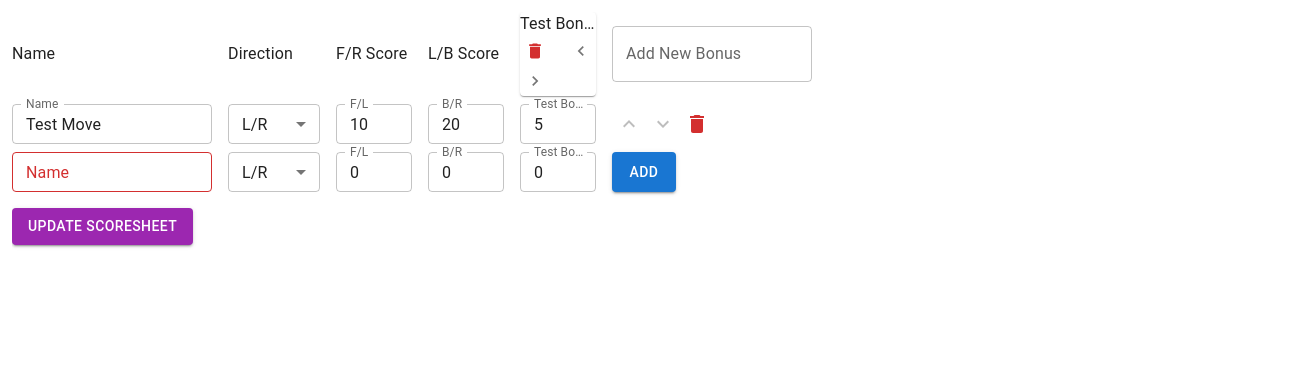
Scenario: ScoresheetMoves › adds a new move to the scoresheet, keeping existing moves in place
Type "New Move" into the 2nd field labelled "Name" at (112, 172), box top-left (12, 152), bottom-right (212, 192)
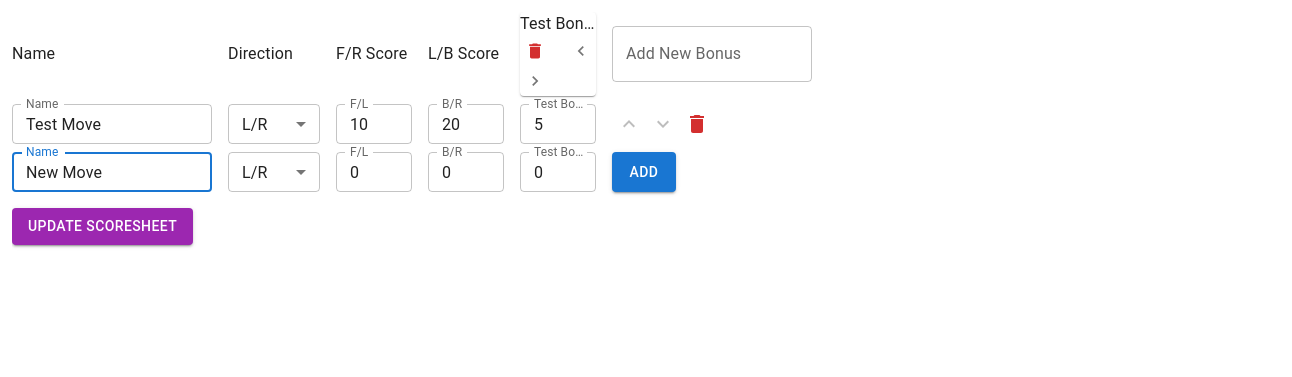
Click the button "Add" at (644, 172), box top-left (612, 152), bottom-right (676, 192)
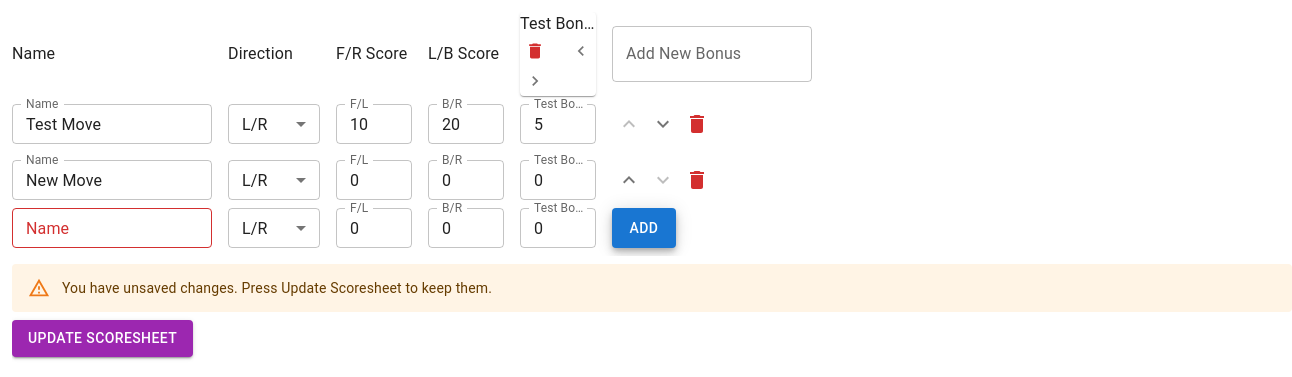
Expected: the 1st field showing "Test Move" is shown, top-left (12, 104), bottom-right (212, 144)
Now the 2nd field showing "New Move" is shown, box top-left (12, 160), bottom-right (212, 200)
Now the 3rd field labelled "Name" is empty, box top-left (12, 208), bottom-right (212, 248)
